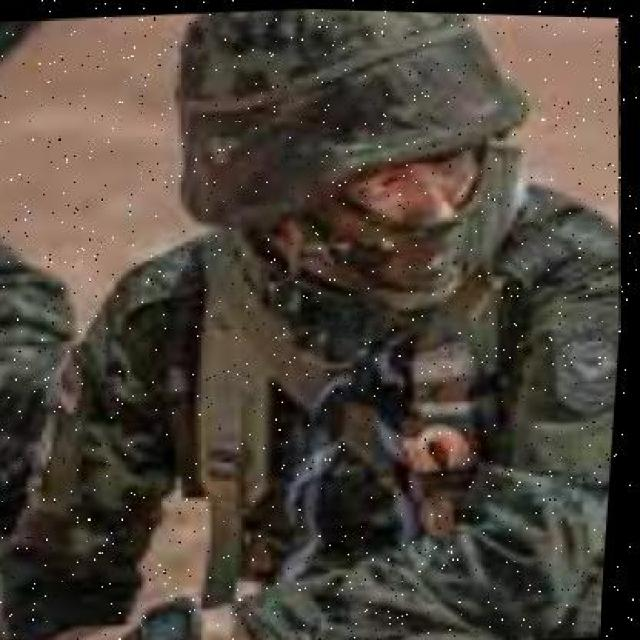MIL_Pax: (104, 3, 570, 640)
